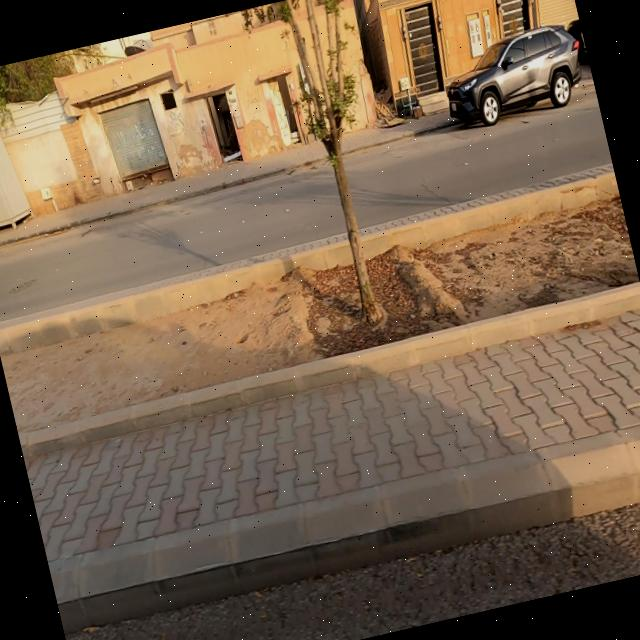Graffiti: (107, 119, 162, 174), (159, 109, 201, 143), (242, 88, 267, 121)
